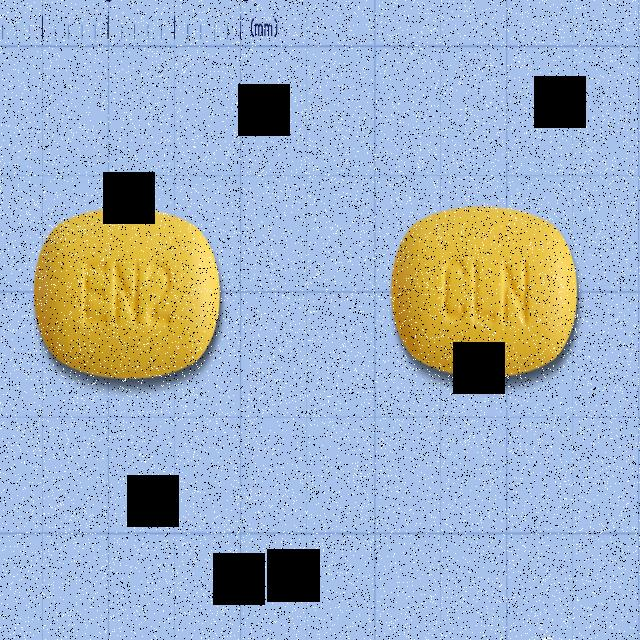Criacin: (33, 206, 221, 379), (391, 208, 579, 378)
